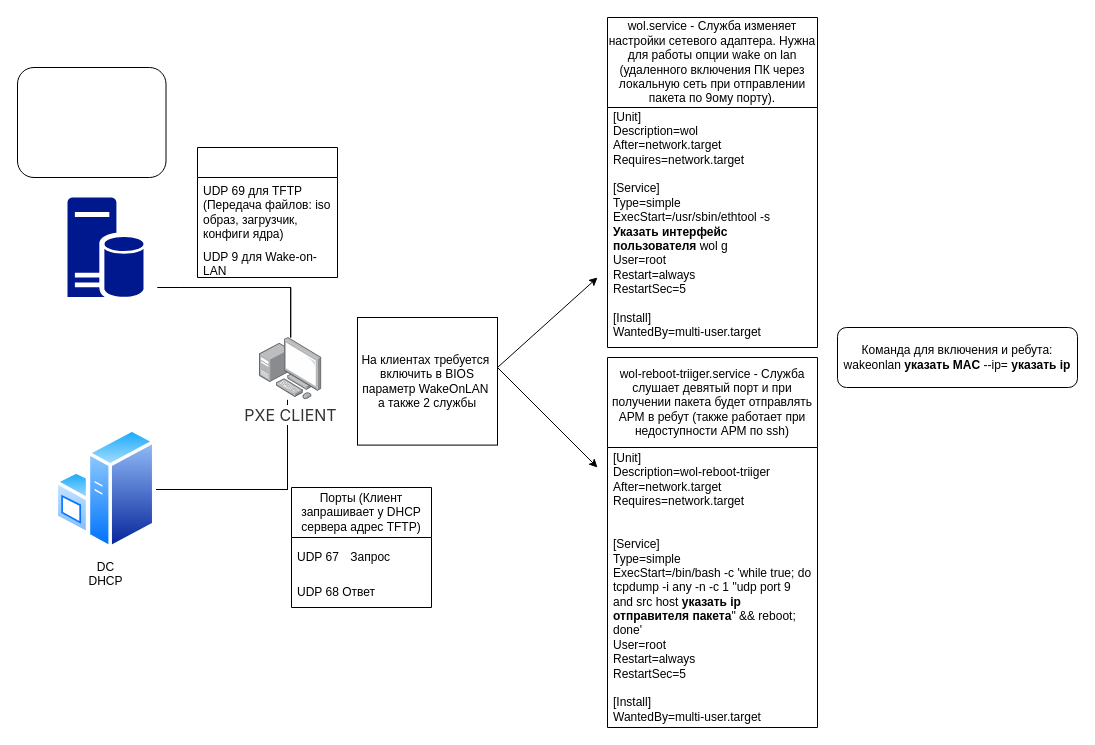
This 1095x745 diagram has some shape labels left out. Here are the shapes that lost their labels. From the top down, the box of each, then its label:
(16, 66, 166, 178): ALT Server 10 Пакеты: syslinux livecd-tools tftp-server wakeonlan
(196, 146, 338, 278): Порты
(67, 197, 143, 297): PXE & TFTP PVE1
